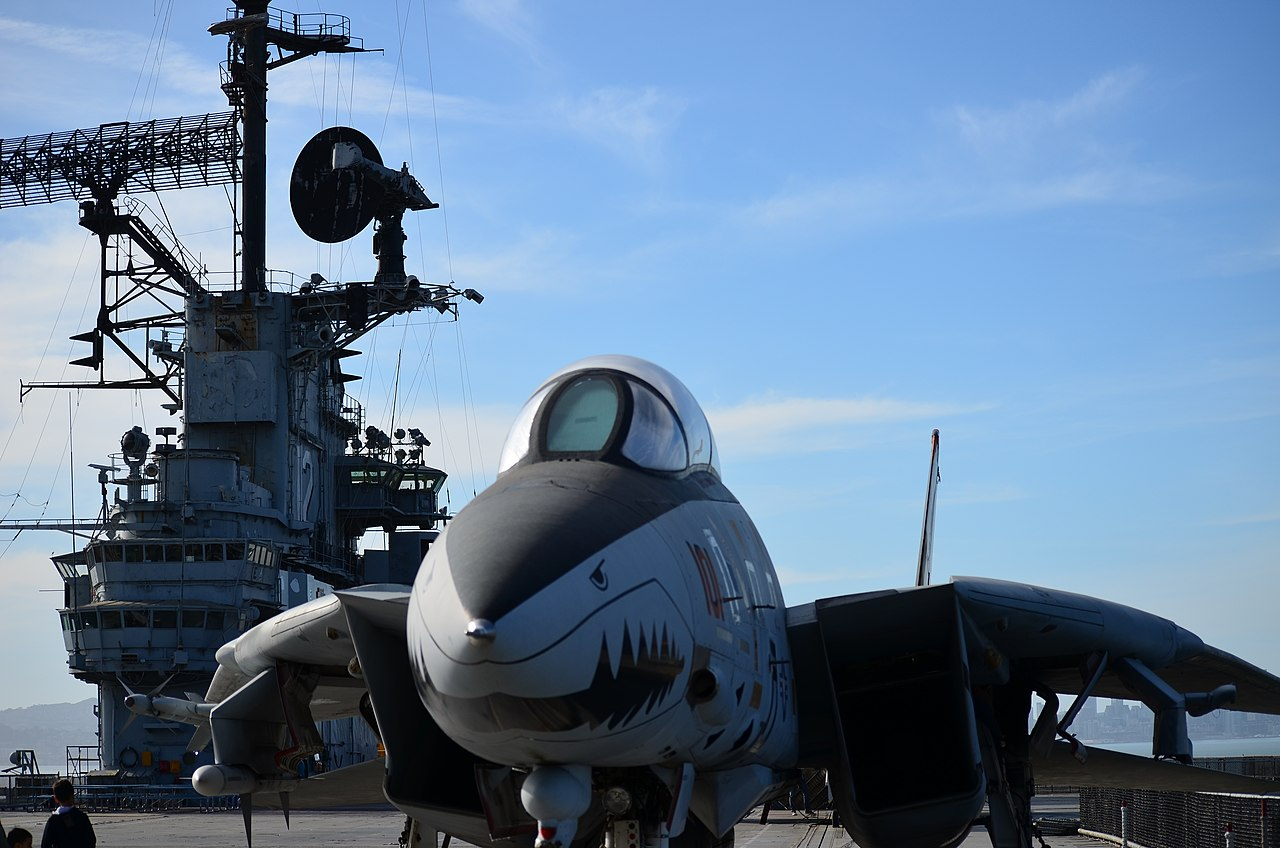F14: (118, 353, 1280, 848)
